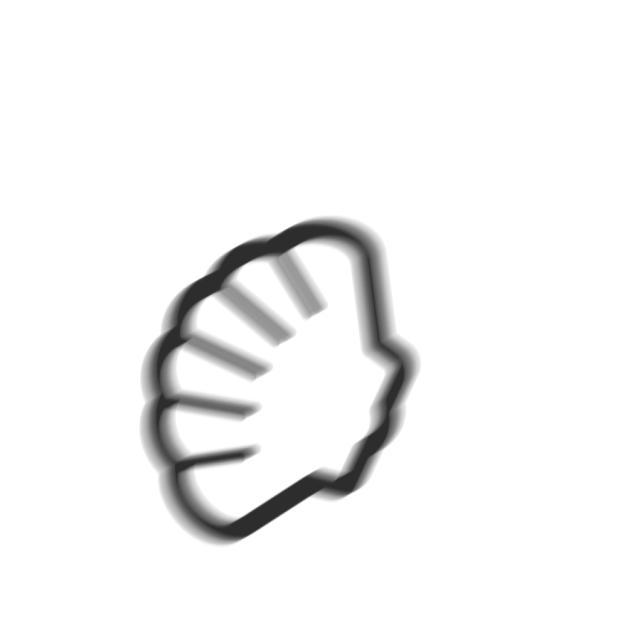shell: (132, 211, 428, 558)
